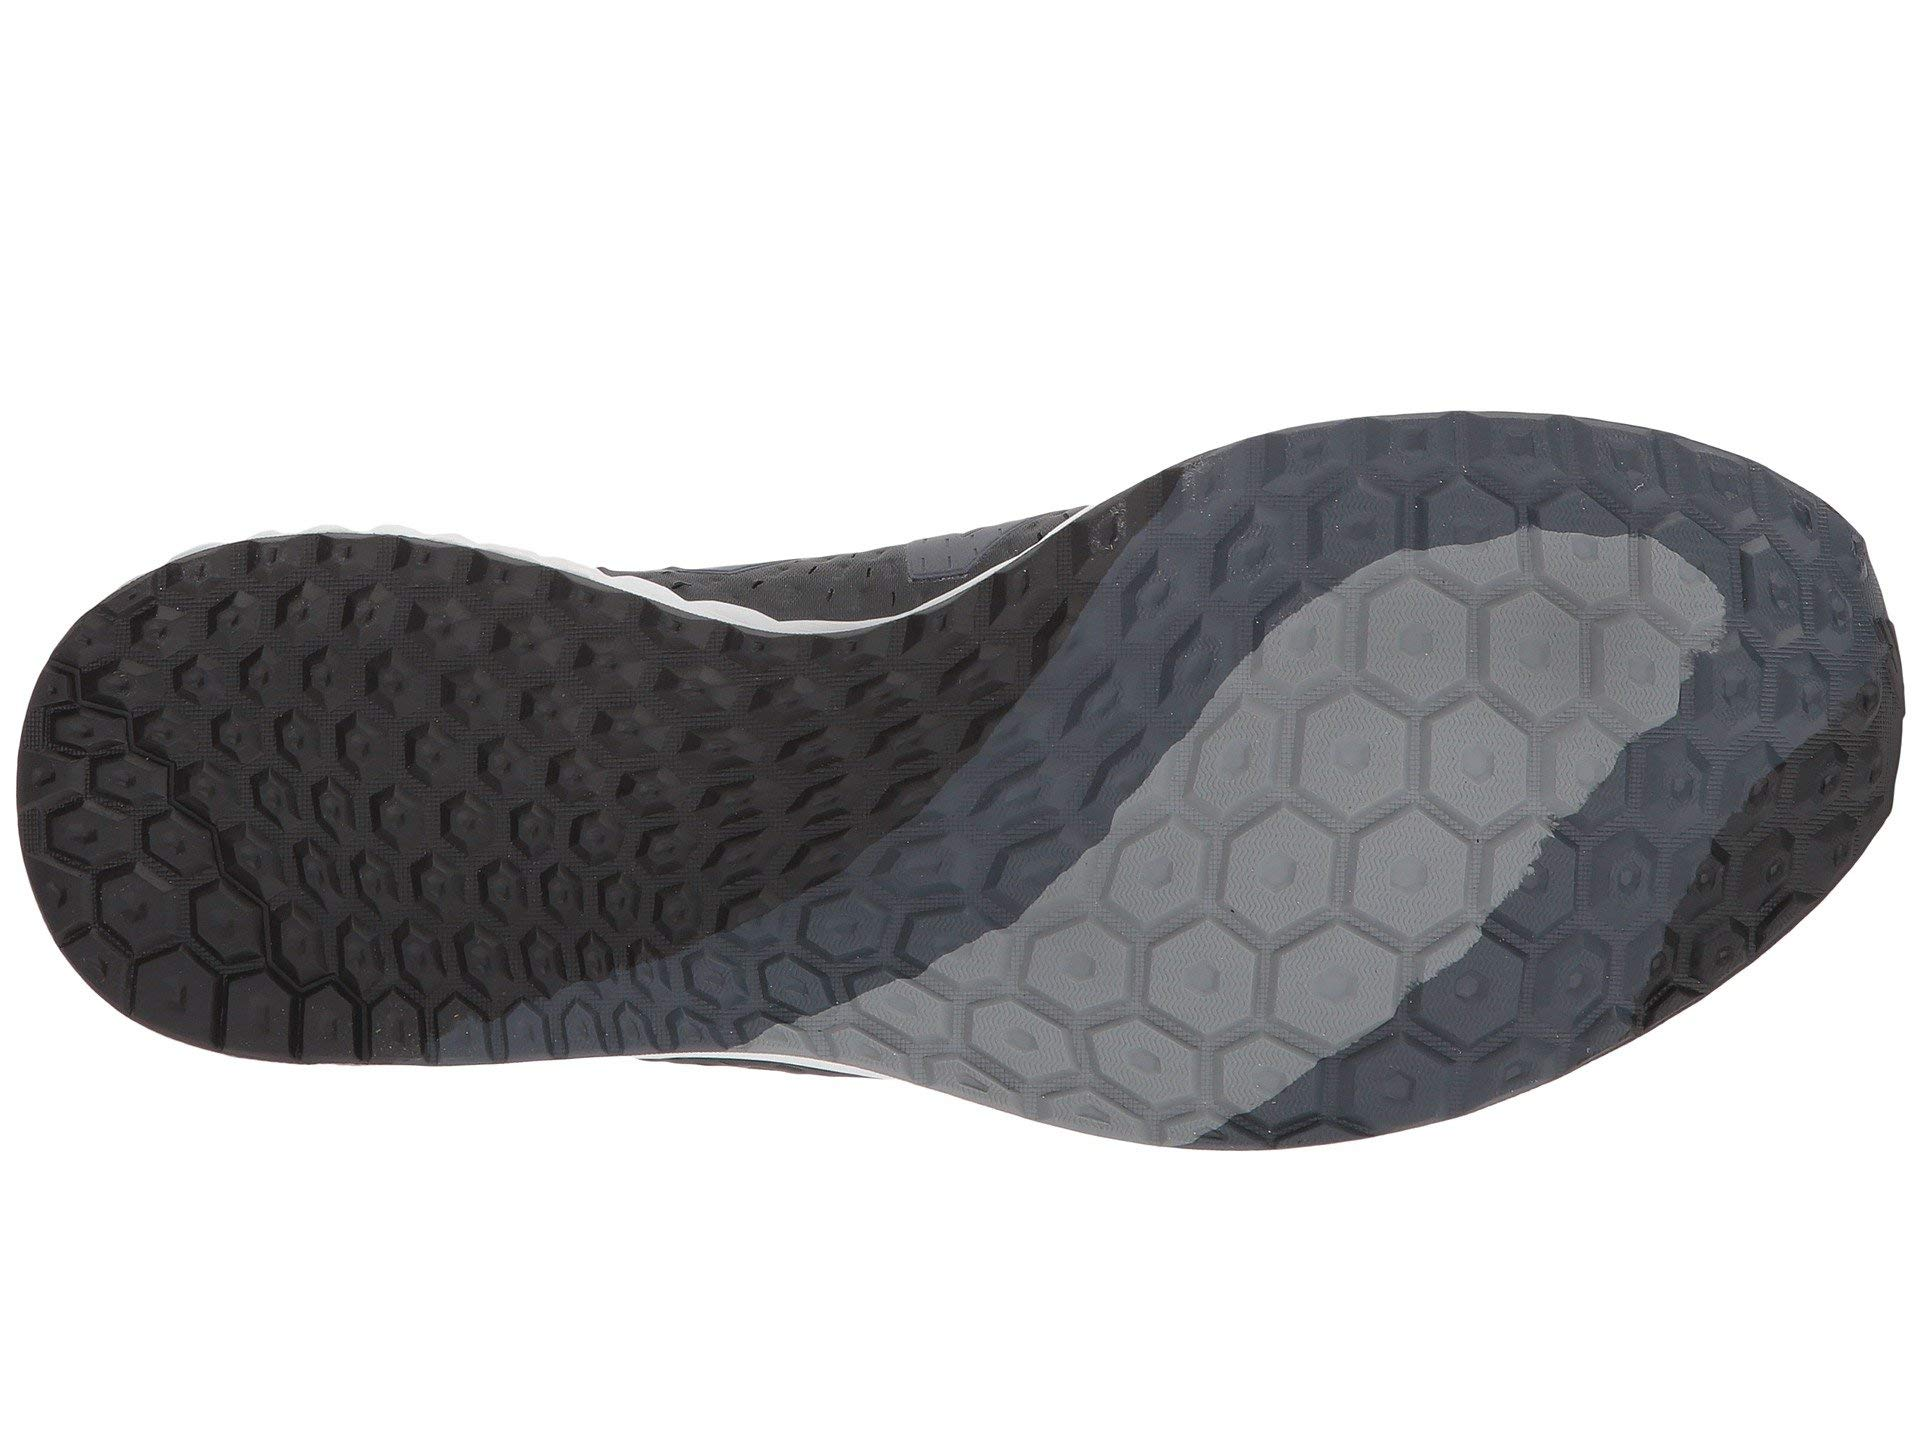chevron: (1116, 669, 1574, 1053)
polygon: (230, 628, 718, 1041), (1116, 669, 1574, 1053), (739, 682, 1107, 1054), (1569, 514, 1864, 818)
